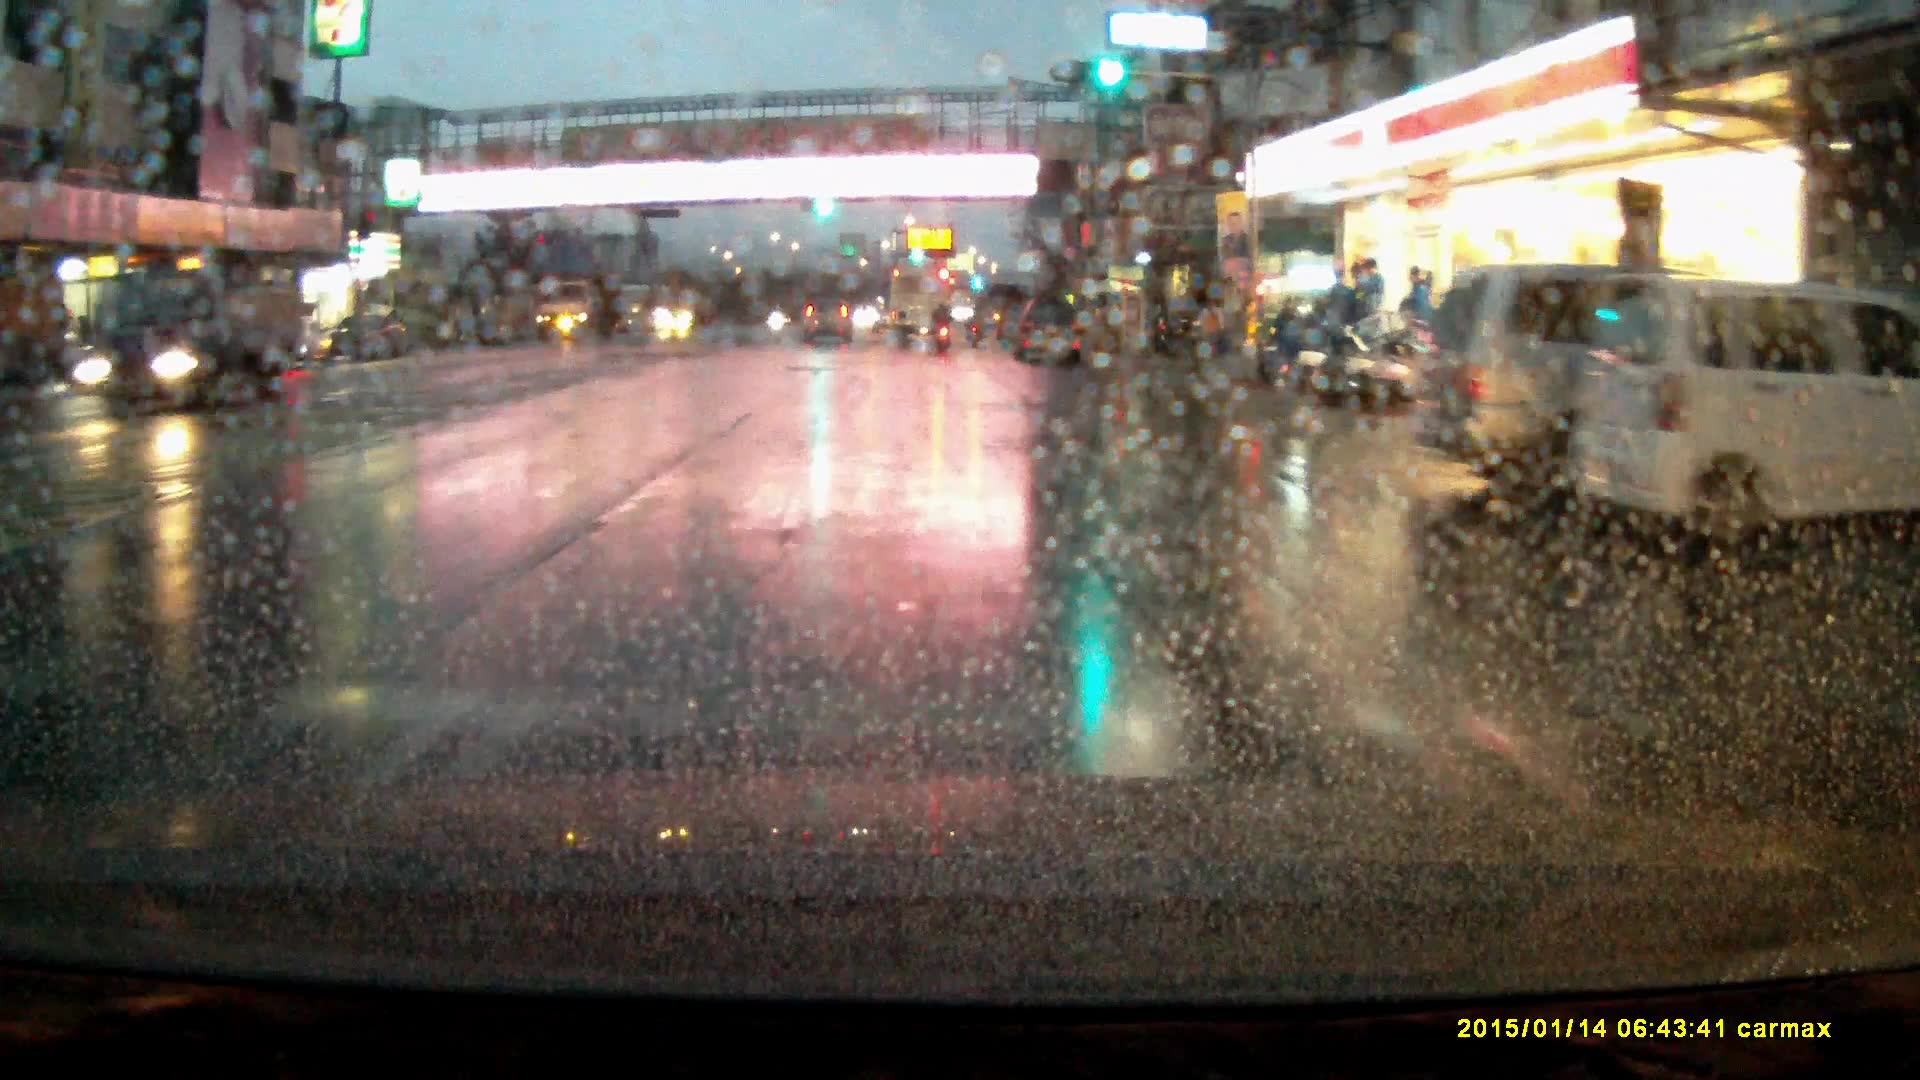rider: (934, 300, 958, 353)
vehicle: (1576, 271, 1913, 561), (1412, 263, 1785, 508), (61, 263, 297, 421), (1014, 292, 1083, 366), (891, 265, 956, 344), (538, 282, 618, 345), (1148, 298, 1229, 357), (662, 280, 720, 330), (800, 296, 855, 347)
